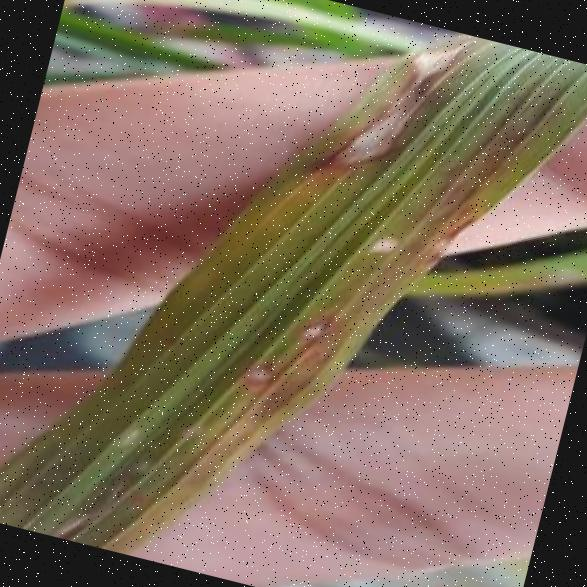Leaf_smut: (293, 67, 436, 188), (369, 15, 492, 122), (211, 342, 297, 408), (280, 303, 360, 369), (358, 213, 414, 268)
